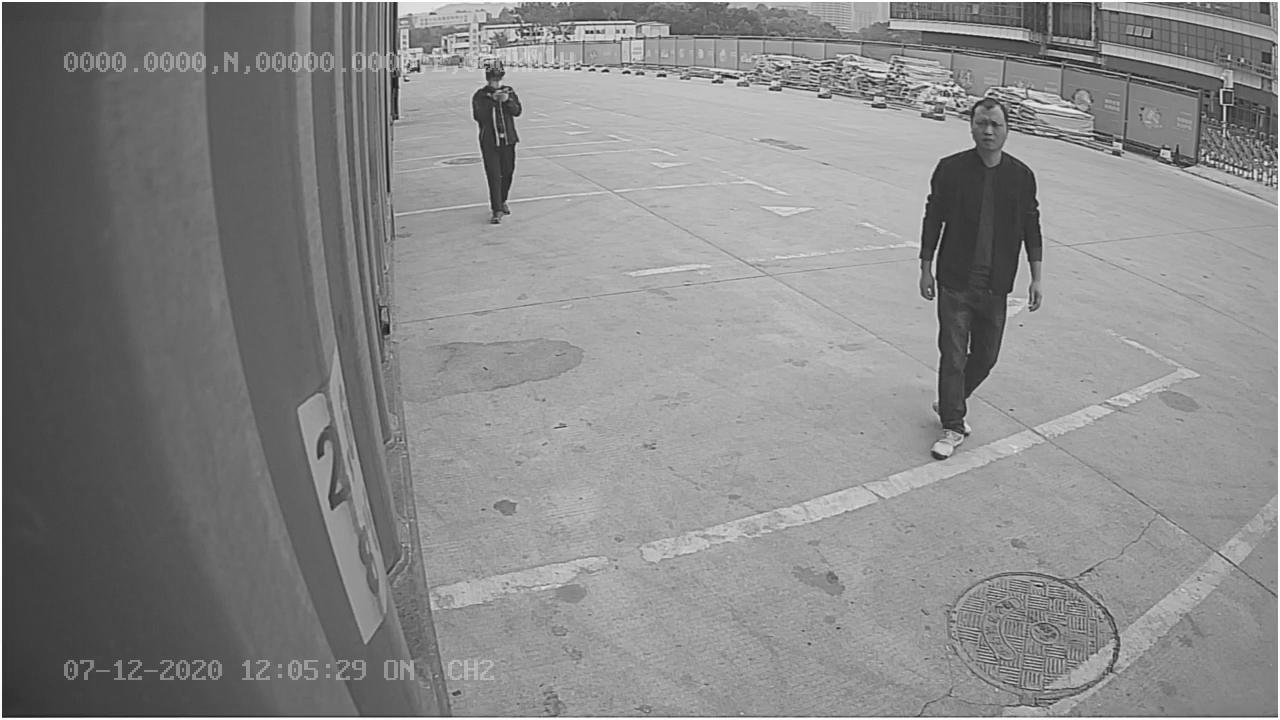person: (913, 98, 1054, 462)
